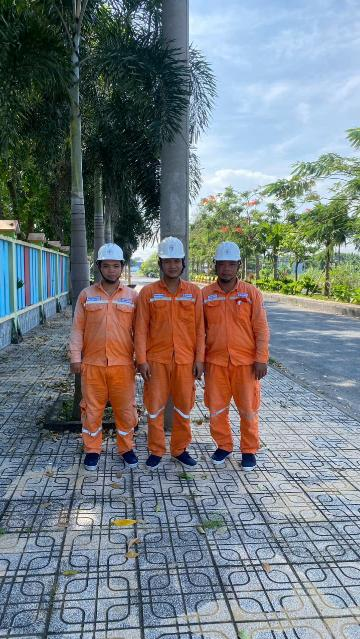helmet: (204, 240, 251, 265), (87, 240, 130, 266), (156, 235, 186, 261)
shoes: (76, 447, 112, 478), (171, 444, 209, 472), (236, 444, 262, 475), (205, 440, 233, 468), (116, 447, 140, 471), (140, 451, 163, 472)
